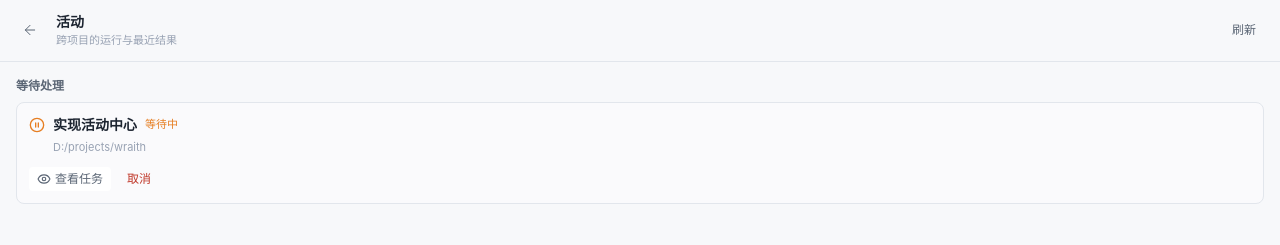
Scenario: ActivityPanel › keeps a failed cancellation status and shows the returned reason
Click the button with test id "activity-cancel-task:one": (139, 179) left=119, top=167, right=159, bottom=191
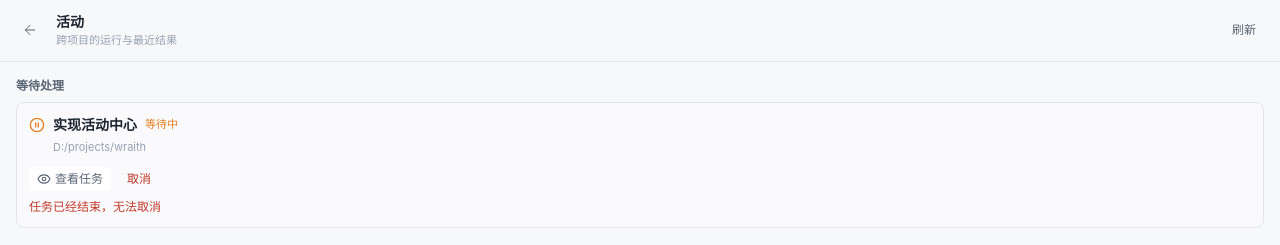
Expected: the text with test id "activity-status-task:one" reads "等待中", left=145, top=117, right=178, bottom=131
Expected: the text with test id "activity-cancel-error-task:one" reads "任务已经结束，无法取消", left=29, top=199, right=161, bottom=214
